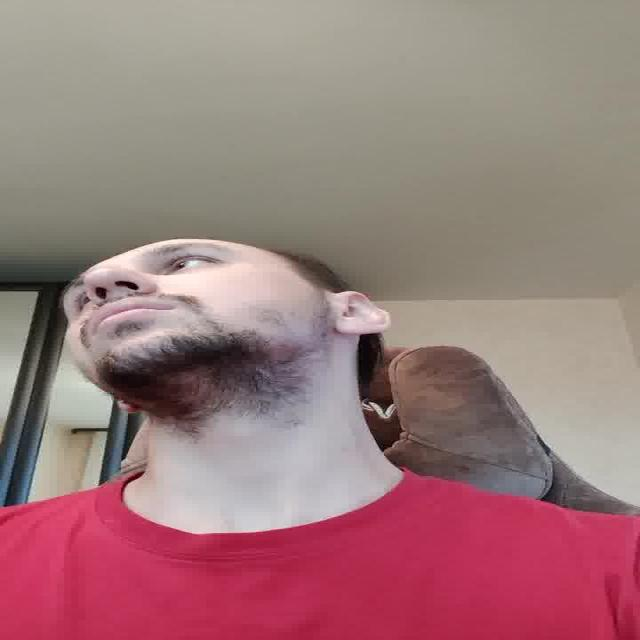earlobe: (333, 316, 359, 335)
eye: (165, 256, 219, 274), (74, 294, 92, 310)
nose: (81, 277, 151, 308)
wholeear: (329, 292, 392, 337)
